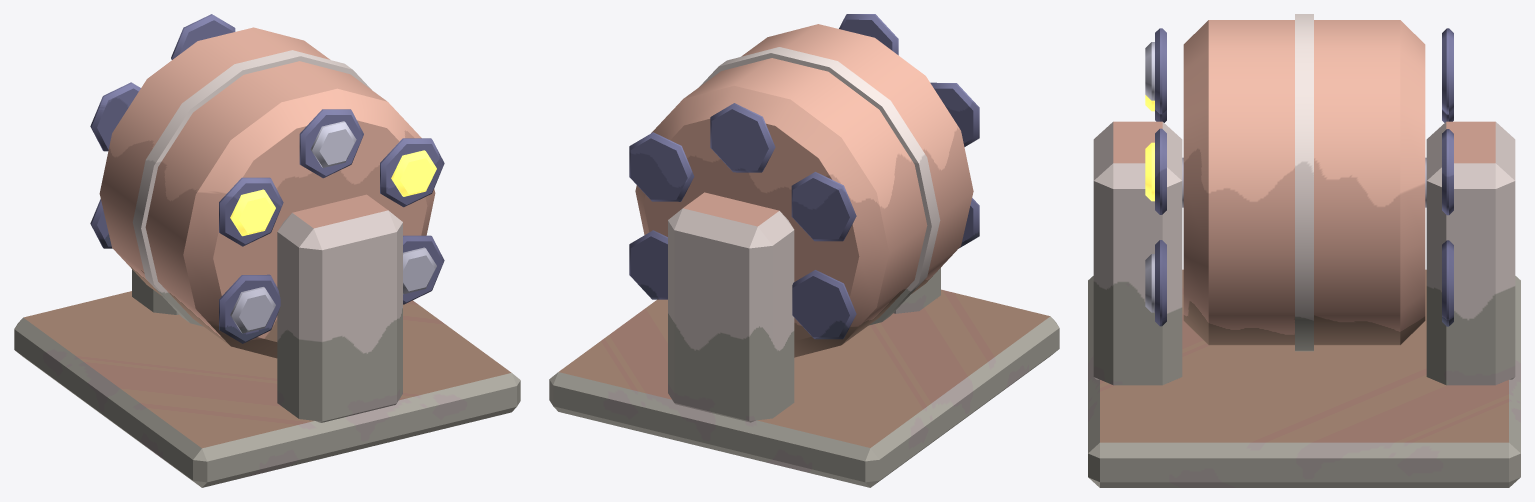
The model's file is R4X_ReloadBooster_LOD1.glb.
3 views of the same model, side by side, from view 1: azimuth 30°, elevation 25°; view 2: azimuth 150°, elevation 25°; view 3: azimuth 270°, elevation 25° (orthographic). The views are drawn at different scales.
Visible parts, largest first — view 1: R4X_ReloadBooster_LOD1; view 2: R4X_ReloadBooster_LOD1; view 3: R4X_ReloadBooster_LOD1.
Part boxes in pixels (x1,y1,x2,y2): R4X_ReloadBooster_LOD1: [14, 14, 520, 487]; R4X_ReloadBooster_LOD1: [549, 14, 1059, 487]; R4X_ReloadBooster_LOD1: [1088, 14, 1520, 487].
Size of the model in its own units: 0.52 by 0.4921 by 0.52.
Materials: 5 (4 with a texture image).
